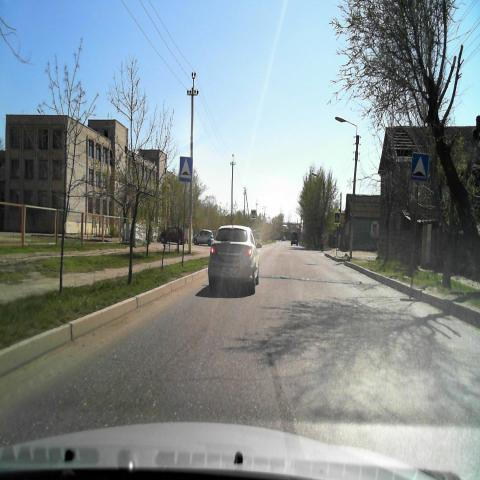5_19_1: (334, 212, 340, 224), (251, 209, 256, 219)
5_20: (410, 152, 430, 184), (180, 156, 192, 182)
